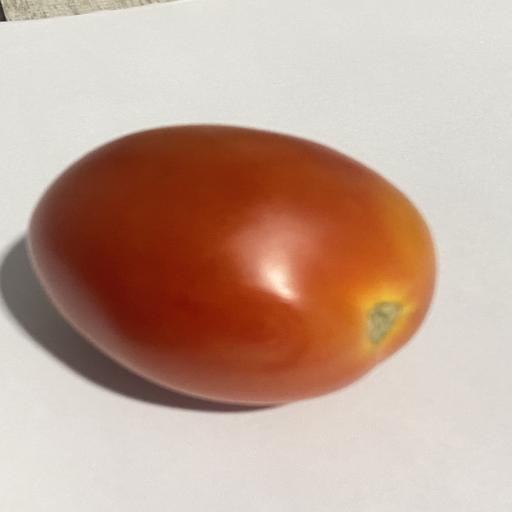ripe: (26, 125, 436, 405)
